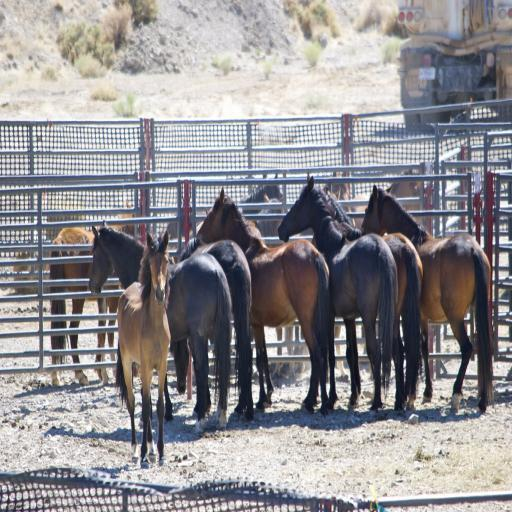horse: (50, 166, 496, 470)
